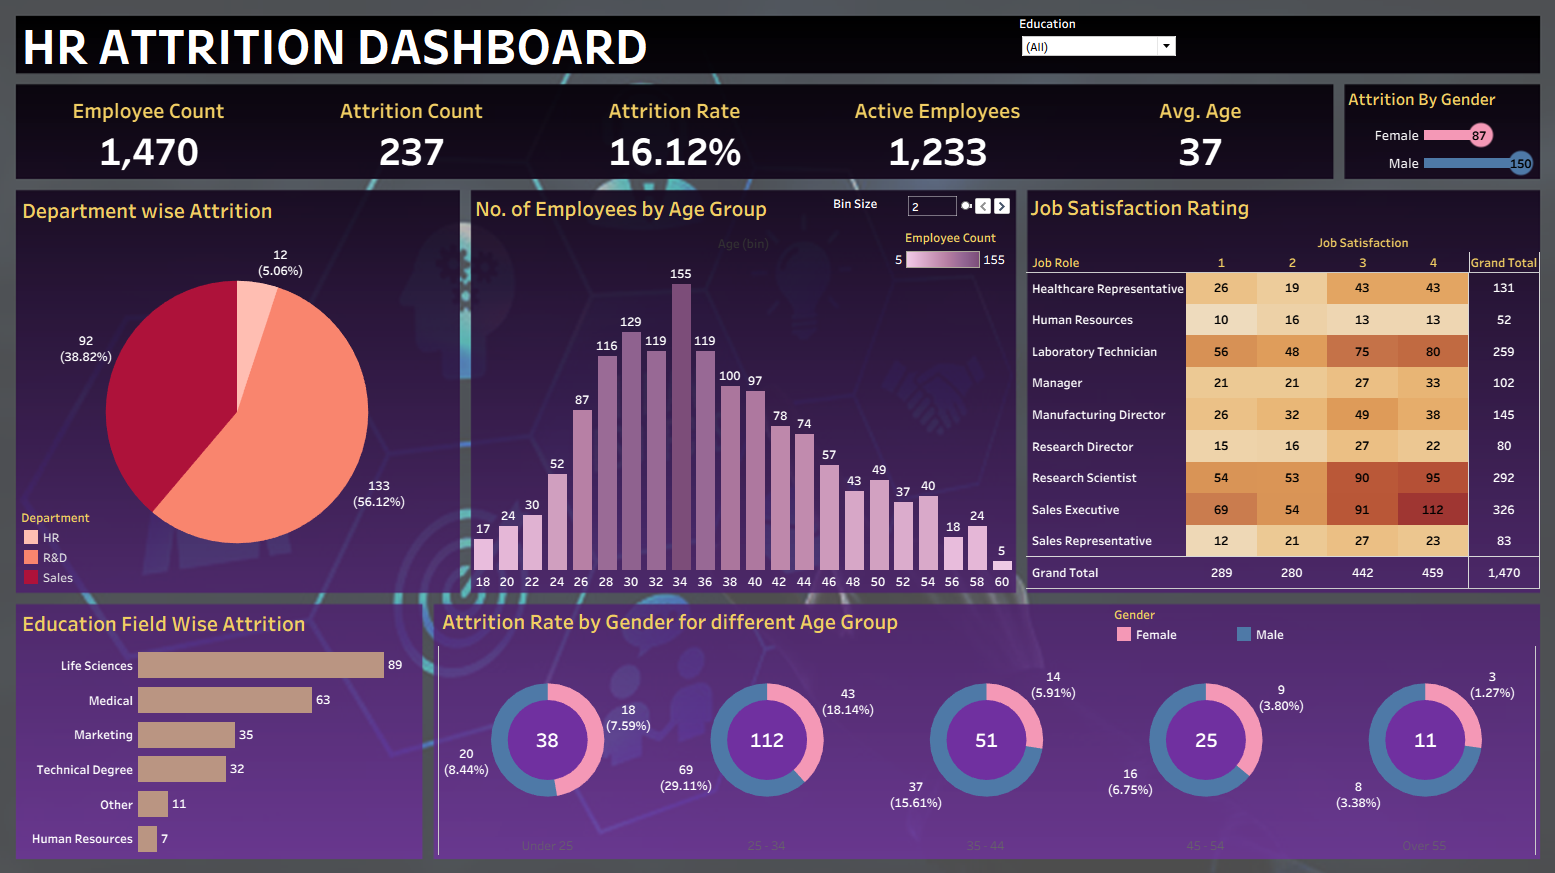

The page's visual inventory and layout, read from the dashboard file:
{"tool":"tableau","page":{"name":"HR ANALYTICS DASHBOARD","canvas":[1700,900],"ordinal":0},"visuals":[{"type":"image","param":"C:/Users/BIT/OneDrive/Documents/background.png","box":[8,8,1684,884]},{"type":"filter","title":"Department wise Attrition","param":"[federated.0yqiwa61yftit91b95vvm00bllba].[none:Education:nk]","box":[1091,28,160,56]},{"type":"text","box":[91,32,653,50]},{"type":"worksheet","title":"KPI","mark":"Automatic","box":[89,97,1315,93]},{"type":"worksheet","title":"Attrition By Gender","mark":"Automatic","rows":["Gender"],"cols":["Calculation_2164117554700288","Calculation_2164117554700288"],"box":[1416,97,195,93]},{"type":"worksheet","title":"Job Satisfaction Rating","mark":"Square","rows":["Job Role"],"cols":["Job Satisfaction"],"box":[1098,202,515,400]},{"type":"worksheet","title":"No. of Employees by Age Group","mark":"Automatic","rows":["Employee Count"],"cols":["Age (bin)"],"box":[543,203,544,401]},{"type":"worksheet","title":"Department wise Attrition","mark":"Pie","box":[90,205,438,397]},{"type":"parameter","param":"[Parameters].[Parameter 1]","box":[905,206,180,35]},{"type":"legend","title":"No. of Employees by Age Group","param":"[federated.0yqiwa61yftit91b95vvm00bllba].[sum:Employee Count:qk]","box":[963,242,119,43]},{"type":"legend","title":"Department wise Attrition","param":"[federated.0yqiwa61yftit91b95vvm00bllba].[none:Department:nk]","box":[93,522,140,78]},{"type":"worksheet","title":"Attrition Rate by Gender for different Age Group","mark":"Pie","rows":["Calculation_2164117587509252","Calculation_2164117587509252"],"cols":["CF_age band"],"box":[510,616,1098,253]},{"type":"worksheet","title":"Education Field Wise Attrition","mark":"Automatic","rows":["Education Field"],"cols":["Calculation_2164117554700288"],"box":[90,618,402,251]},{"type":"legend","title":"Attrition Rate by Gender for different Age Group","param":"[federated.0yqiwa61yftit91b95vvm00bllba].[none:Gender:nk]","box":[1186,619,419,58]}]}

Visuals, with their boxes on the page's 1700x900 design canvas (x1, y1, x2, y2). These are canvas units, not pixel positions in the 1555x873 screenshot, which may show the page scaled, cropped or inside an application window:
image: <region>8, 8, 1692, 892</region>
"Department wise Attrition" filter: <region>1091, 28, 1251, 84</region>
text: <region>91, 32, 744, 82</region>
"KPI" worksheet: <region>89, 97, 1404, 190</region>
"Attrition By Gender" worksheet: <region>1416, 97, 1611, 190</region>
"Job Satisfaction Rating" worksheet (Square marks): <region>1098, 202, 1613, 602</region>
"No. of Employees by Age Group" worksheet: <region>543, 203, 1087, 604</region>
"Department wise Attrition" worksheet (Pie marks): <region>90, 205, 528, 602</region>
parameter: <region>905, 206, 1085, 241</region>
"No. of Employees by Age Group" legend: <region>963, 242, 1082, 285</region>
"Department wise Attrition" legend: <region>93, 522, 233, 600</region>
"Attrition Rate by Gender for different Age Group" worksheet (Pie marks): <region>510, 616, 1608, 869</region>
"Education Field Wise Attrition" worksheet: <region>90, 618, 492, 869</region>
"Attrition Rate by Gender for different Age Group" legend: <region>1186, 619, 1605, 677</region>
